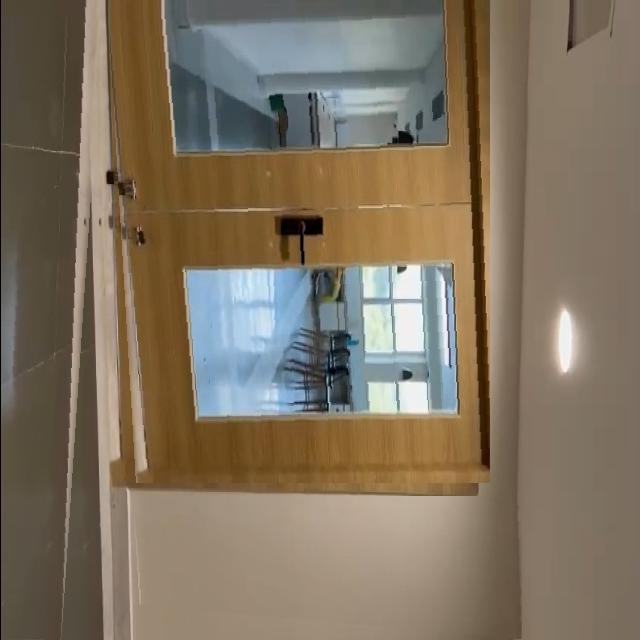door: (107, 0, 489, 483)
floor: (0, 0, 103, 640)
wall: (130, 496, 521, 640)
